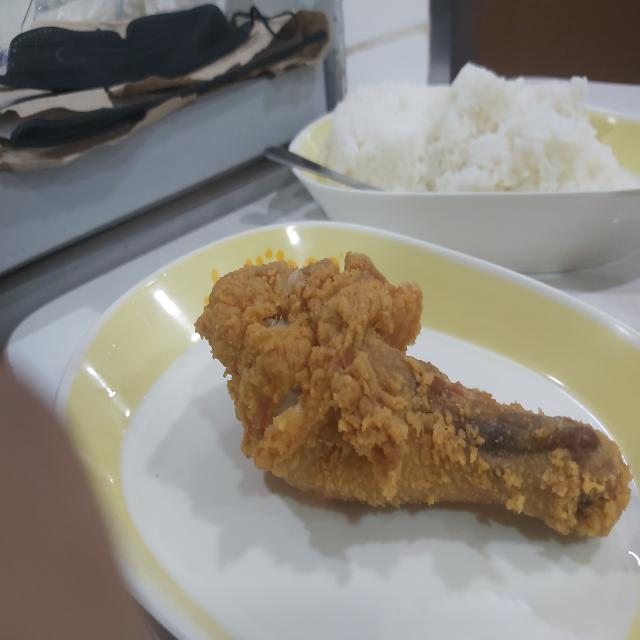Chicken -Fried Chicken-: (197, 251, 630, 582)
